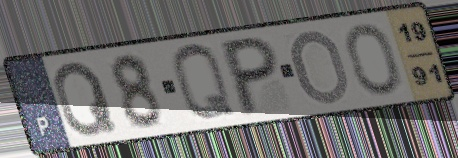8: (112, 51, 165, 131)
O: (290, 27, 354, 107), (344, 22, 405, 98)
P: (221, 33, 280, 120)
Q: (170, 41, 241, 125), (51, 59, 120, 140)
